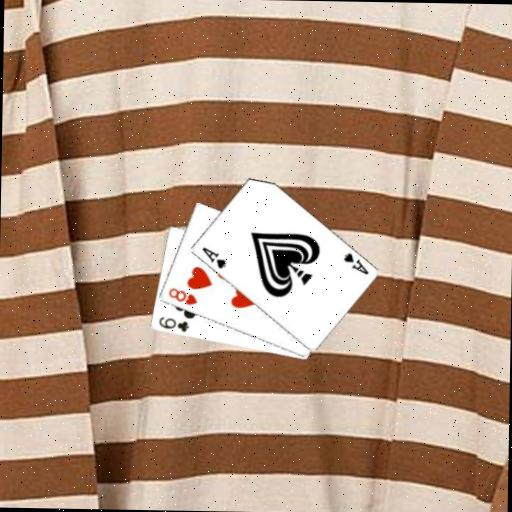6C: (156, 314, 191, 334)
8H: (165, 285, 199, 307)
AS: (340, 250, 370, 277), (199, 244, 228, 271)
